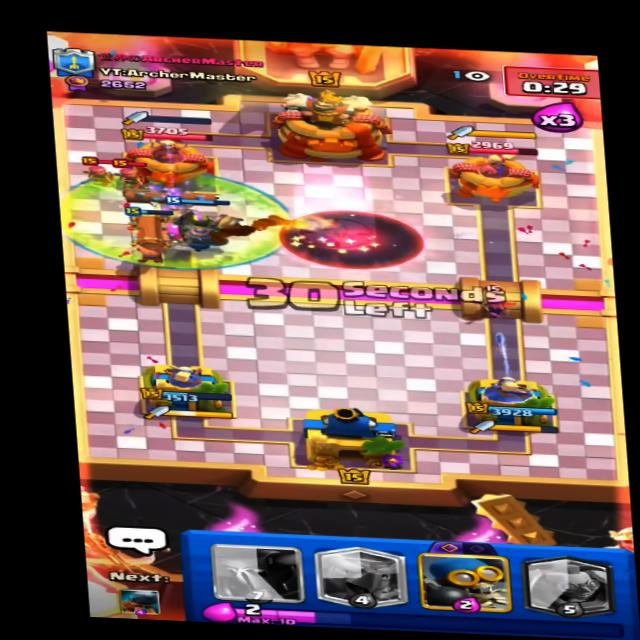archer: (77, 156, 115, 186), (114, 158, 146, 183)
evo-archers: (478, 287, 523, 320)
